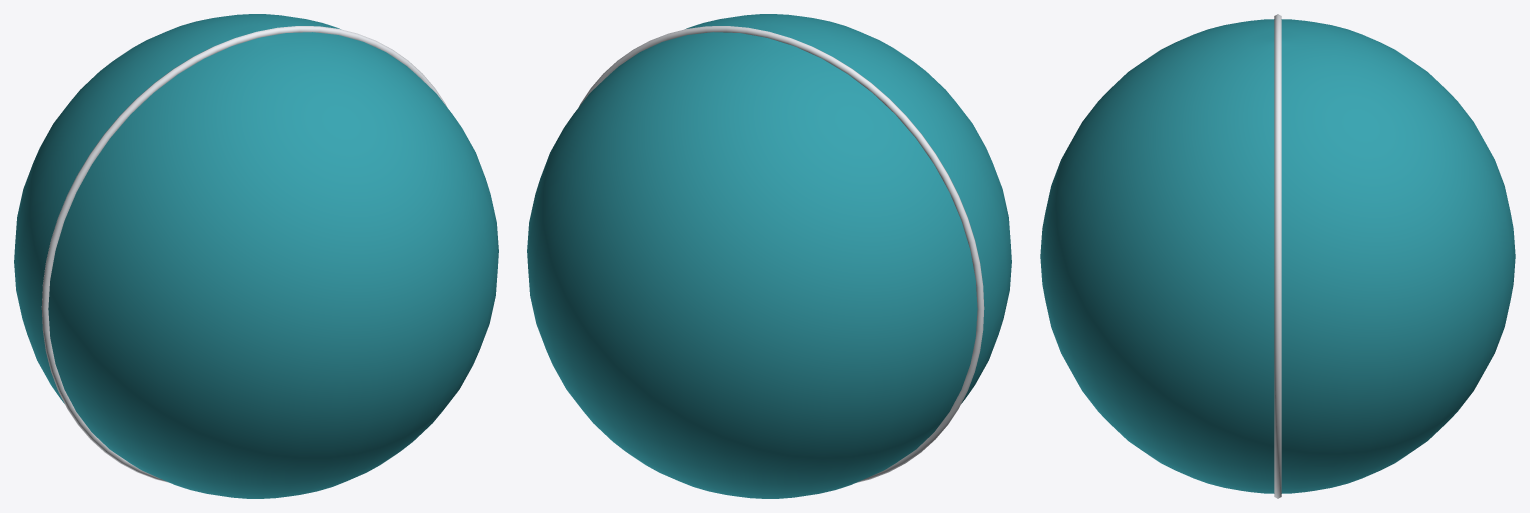
Rendered from gym_ball.glb.
3 renders of one model, left to right at view 1: azimuth 30°, elevation 25°; view 2: azimuth 150°, elevation 25°; view 3: azimuth 270°, elevation 25°, orthographic. The views are drawn at different scales.
Parts seen in each view (by area): view 1: gym_ball; view 2: gym_ball; view 3: gym_ball.
Boxes of the visible parts, <box> form: gym_ball: <box>14,14,498,498</box>; gym_ball: <box>527,14,1011,498</box>; gym_ball: <box>1040,14,1515,498</box>.
Bounding box in the file's own units: 0.674 × 0.674 × 0.66.
